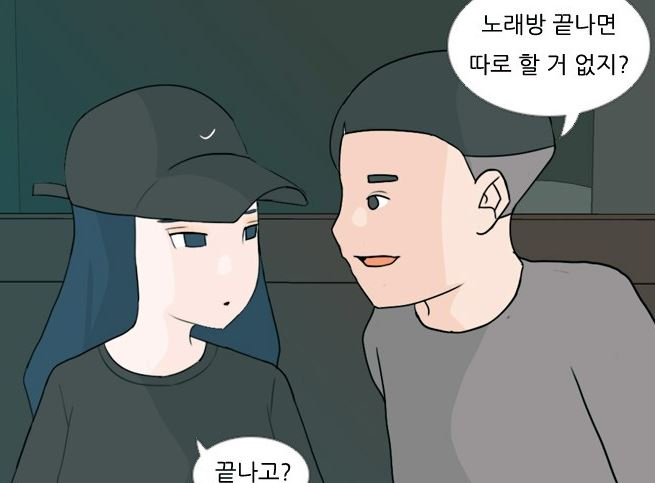hat: (59, 80, 312, 228)
